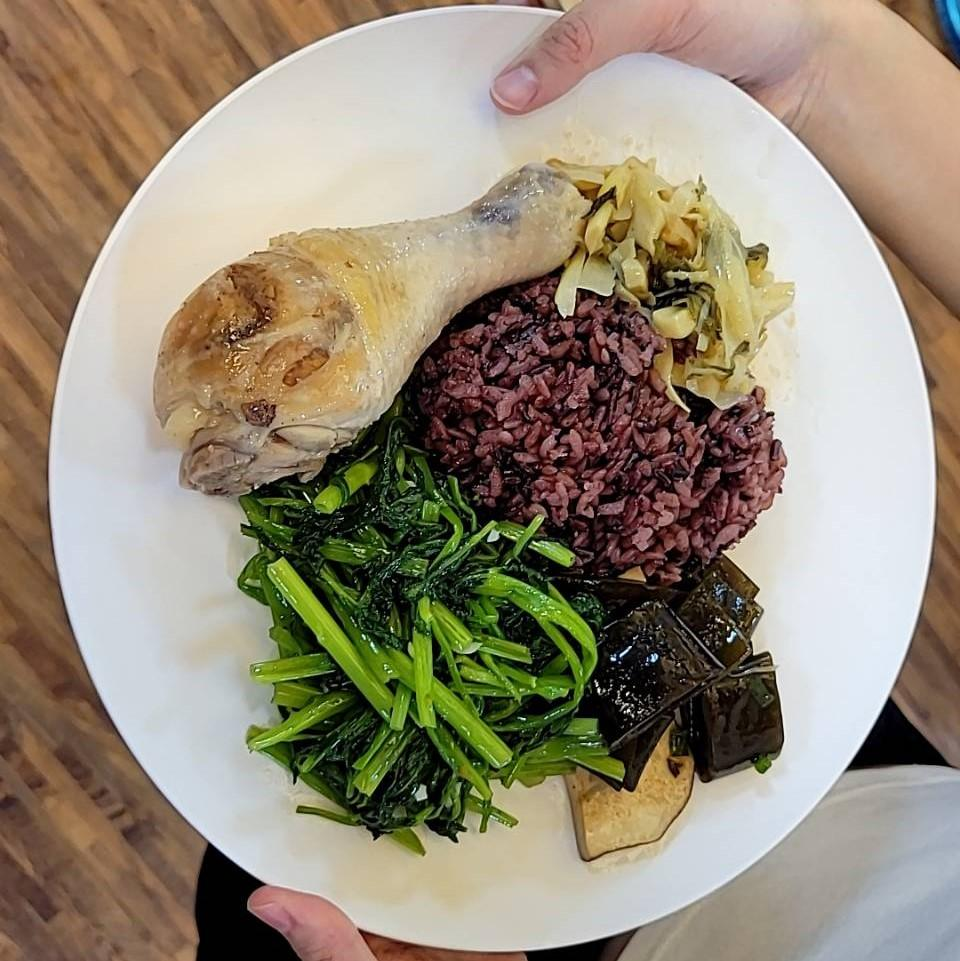big fried chicken leg: (38, 0, 950, 952)
braised fish: (412, 276, 785, 560)
braised fish fillet: (240, 468, 603, 835), (550, 554, 784, 864), (578, 148, 783, 404)
braised pork: (150, 154, 588, 496)
